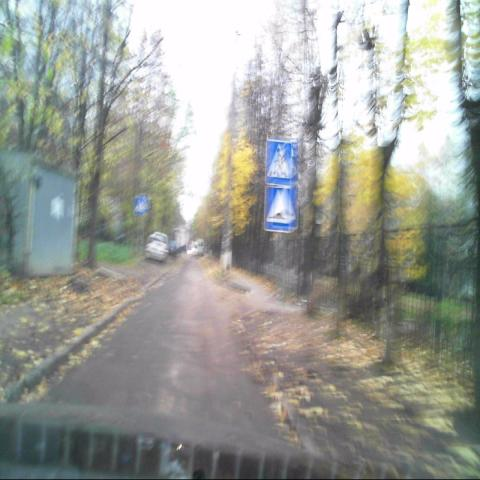5_20: (264, 187, 290, 232)
